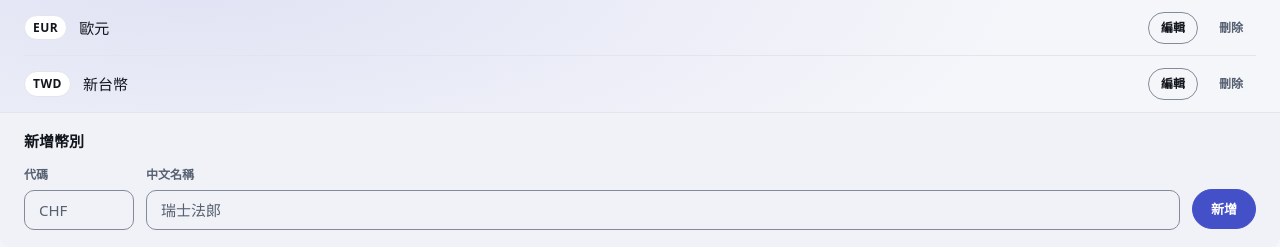
Test: CurrencyManager (AC11 frontend) › deletes a currency after an explicit confirmation
Click the button with aria-label "刪除 EUR": (1231, 28) [1206, 12, 1256, 44]
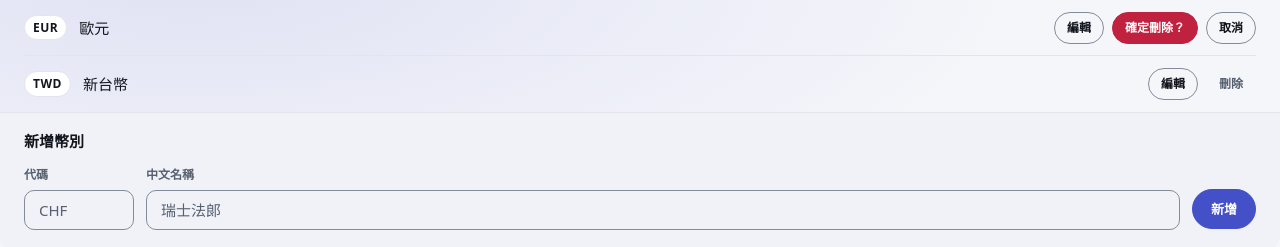
Click the button "確定刪除？": (1155, 28) [1112, 12, 1198, 44]
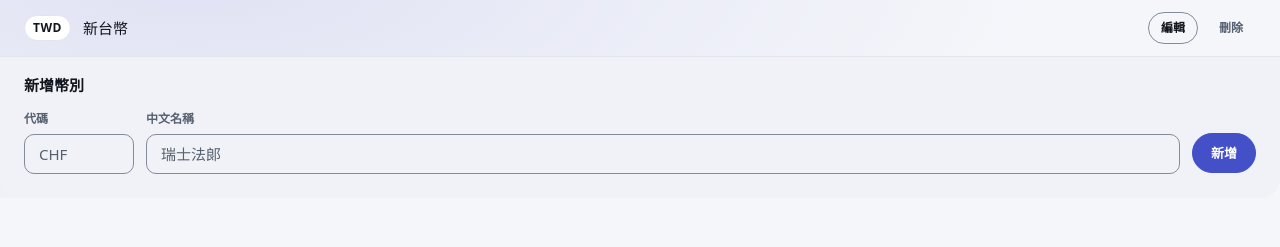
Result: the list item with test id "currency-EUR" is gone
